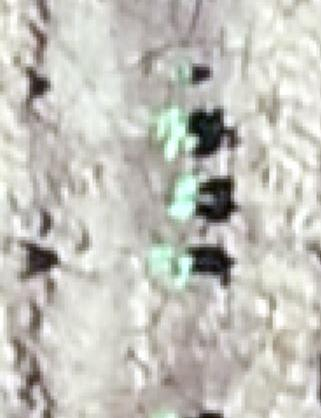cotton: (150, 246, 191, 284), (160, 110, 186, 136), (173, 174, 199, 199), (168, 201, 197, 218), (169, 137, 197, 154), (172, 60, 192, 83)
